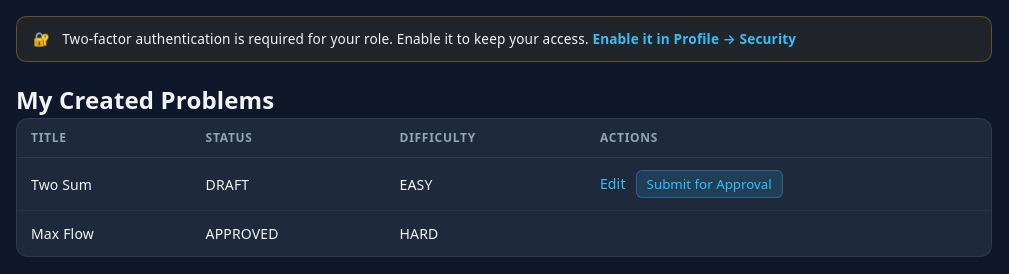
MyCreatedProblemsPage (/my-created-problems) › submits a draft for approval: optimistic flip + success toast
Expected: the link "Two Sum" is shown, [31,175,92,194]
Click the button "Submit for Approval" at (709, 184), box [636,170,783,198]
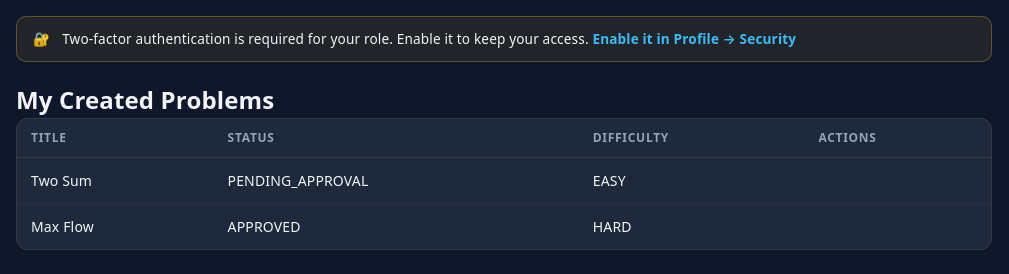
Expected: the text "PENDING_APPROVAL" is shown, [214,158,579,204]
Expected: the button "Submit for Approval" is gone
